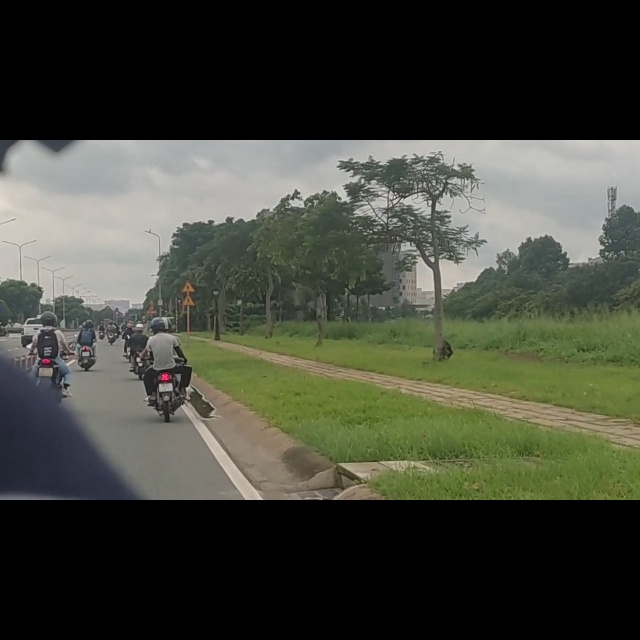bien_nguy_hiem: (181, 274, 196, 296), (181, 249, 196, 270)
